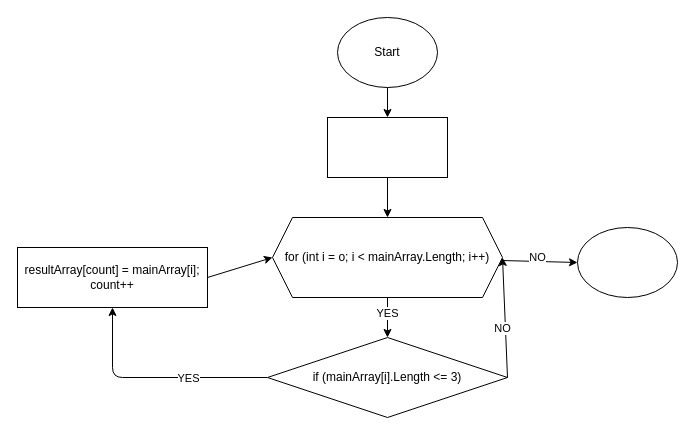
This 695x435 diagram has some shape labels left out. The centre of each missing label's shape, as x and y in pixels:
"End" belongs at point 627,262.
"string[] mainArray string[] resultArray int count = 0" belongs at point 387,147.
